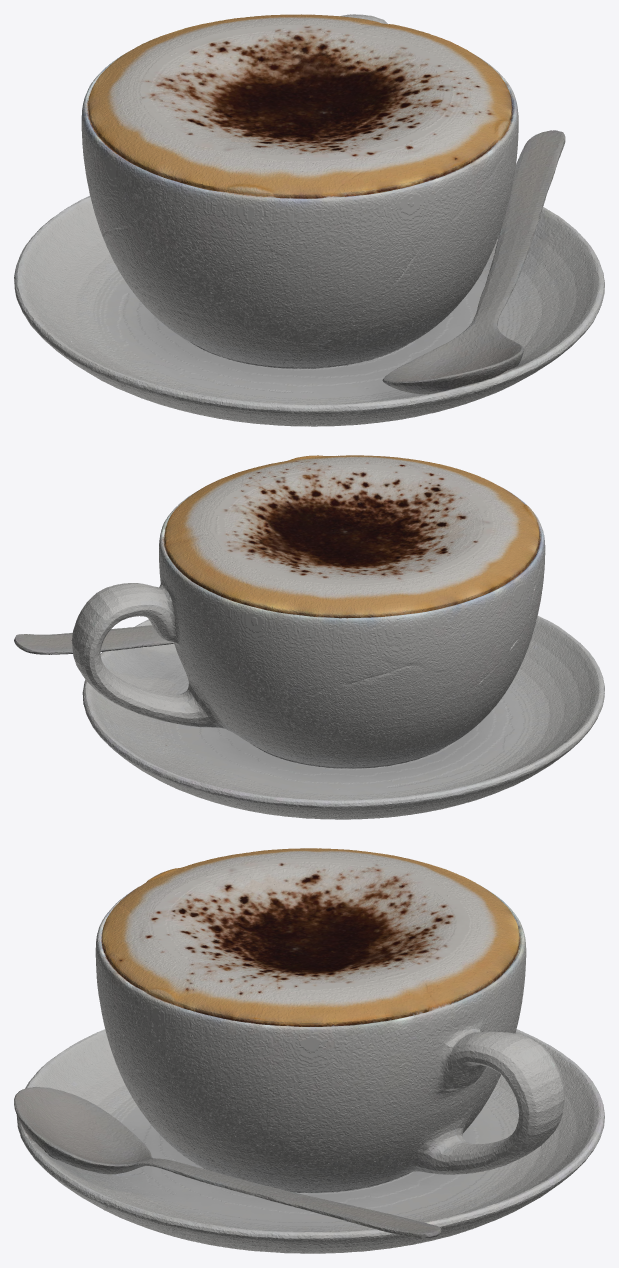
Rendered from coffee.glb.
3 renders of one model, top to bottom at view 1: azimuth 30°, elevation 25°; view 2: azimuth 150°, elevation 25°; view 3: azimuth 270°, elevation 25°, orthographic. The views are drawn at different scales.
Parts seen in each view (by area): view 1: tripo_node_7c53371a-a9db-442a-b884-6a6dca859d16; view 2: tripo_node_7c53371a-a9db-442a-b884-6a6dca859d16; view 3: tripo_node_7c53371a-a9db-442a-b884-6a6dca859d16.
Part boxes in pixels (bbox=[...]): tripo_node_7c53371a-a9db-442a-b884-6a6dca859d16: bbox=[14, 14, 604, 426]; tripo_node_7c53371a-a9db-442a-b884-6a6dca859d16: bbox=[14, 455, 604, 819]; tripo_node_7c53371a-a9db-442a-b884-6a6dca859d16: bbox=[14, 848, 604, 1253].
Size of the model in its own units: 1 by 0.4084 by 0.9306.
1 material, 1 textured.
